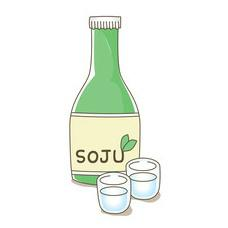soju: (67, 14, 143, 187)
